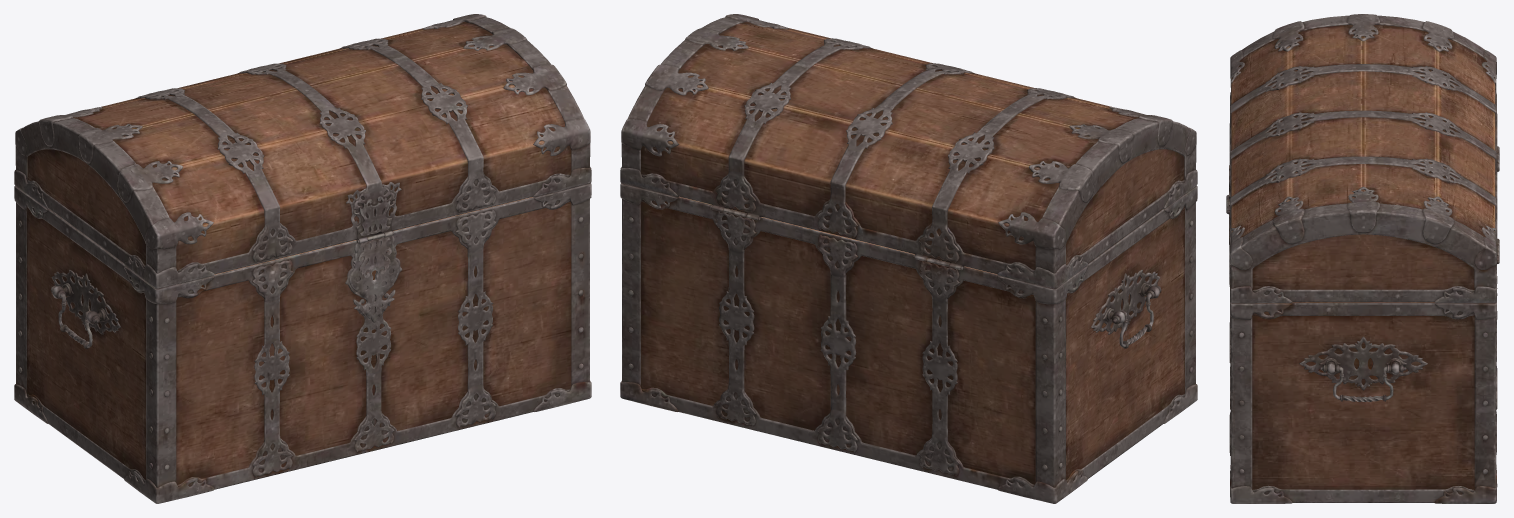
Rendered from treasure-chest.glb.
3 renders of one model, left to right at view 1: azimuth 30°, elevation 25°; view 2: azimuth 150°, elevation 25°; view 3: azimuth 270°, elevation 25°, orthographic. The views are drawn at different scales.
Parts seen in each view (by area): view 1: treasure_chest_bottom; view 2: treasure_chest_bottom; view 3: treasure_chest_bottom.
Part boxes in pixels (<box>): treasure_chest_bottom: <box>14,14,591,503</box>; treasure_chest_bottom: <box>620,14,1197,503</box>; treasure_chest_bottom: <box>1226,14,1499,503</box>.
Bounding box in the file's own units: 0.959 × 0.619 × 0.5229.
Materials: 1 (1 with a texture image).
